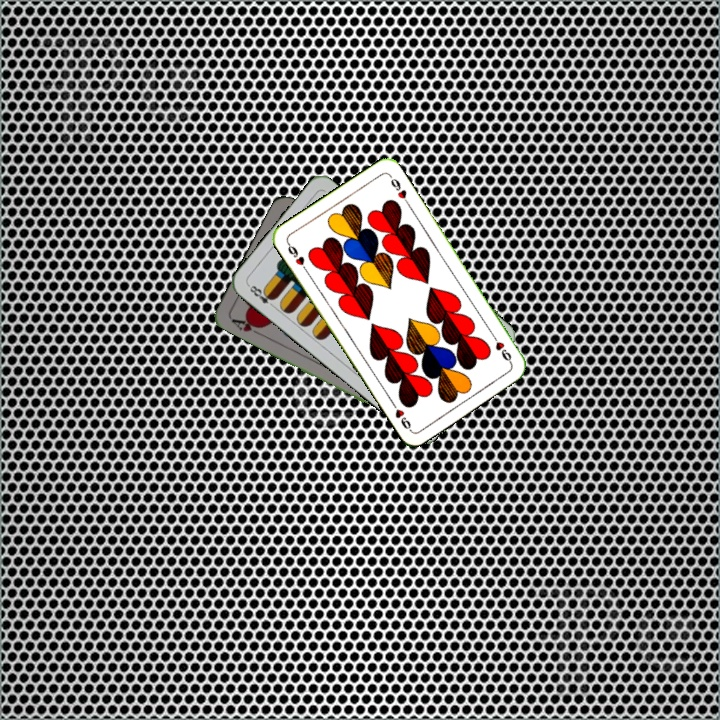E8: (244, 281, 278, 311)
H9: (283, 238, 310, 274), (487, 330, 514, 366)
HA: (227, 314, 265, 338)
